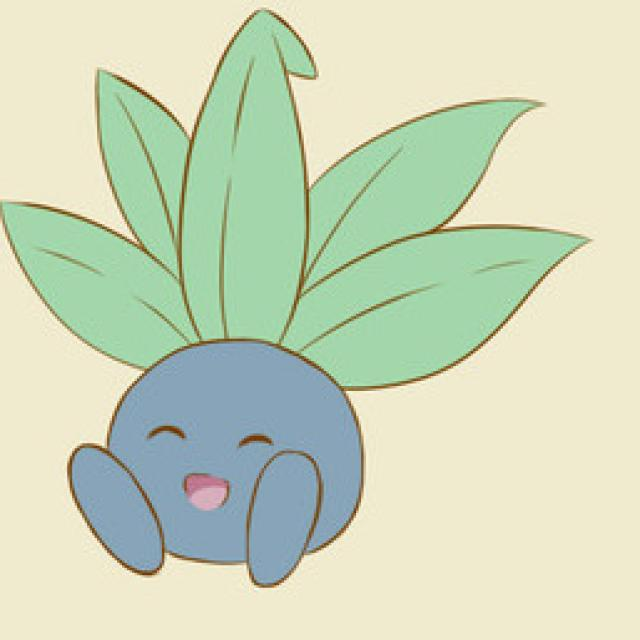Oddish: (0, 206, 447, 581)
